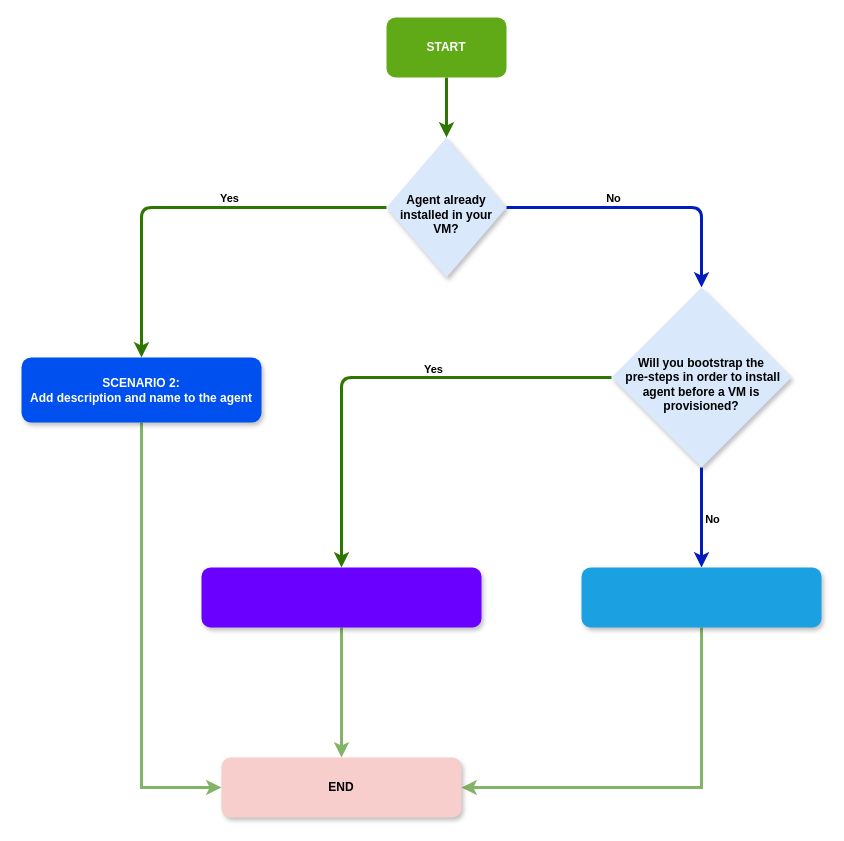
The diagram is 844 pixels wide and 841 high, and some of its shapes have lost their labels. The shapes that lost their labels are listed below. From the top down, each one's centre as x and y in pixels, then its label:
At pixel 342 598: "SCENARIO 3: Bootstrap the agent installation as a pre-steps during VM spinup".
At pixel 702 598: "SCENARIO 1: Manually install agent to the VM".
